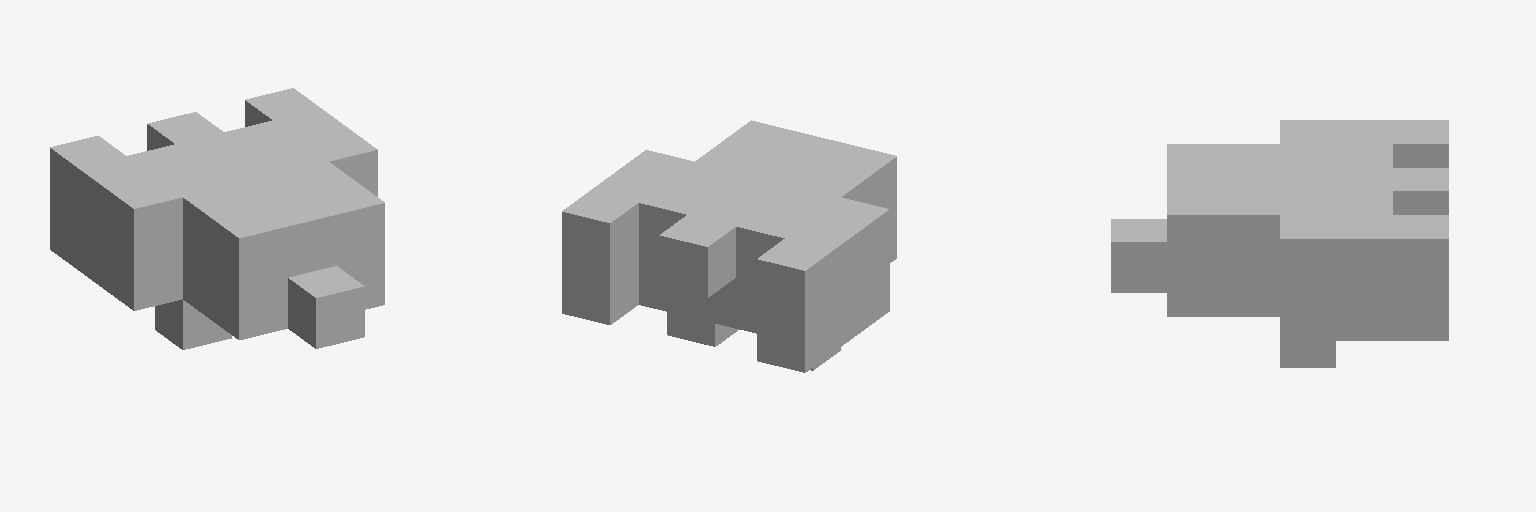
3 renders of one model, left to right at view 1: azimuth 30°, elevation 25°; view 2: azimuth 150°, elevation 25°; view 3: azimuth 270°, elevation 25°, orthographic.
Parts seen in each view (by area): view 1: bird_idle_02; view 2: bird_idle_02; view 3: bird_idle_02.
Boxes of the visible parts, x1,y1,x2,y2 form: bird_idle_02: [50, 88, 384, 349]; bird_idle_02: [562, 120, 896, 372]; bird_idle_02: [1111, 120, 1448, 367].
Size of the model in its own units: 0.3125 by 0.1875 by 0.375.